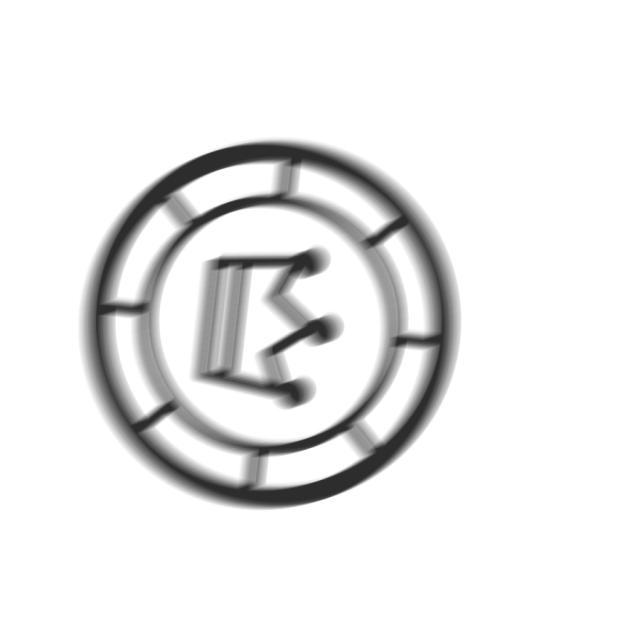coin: (77, 135, 469, 519)
